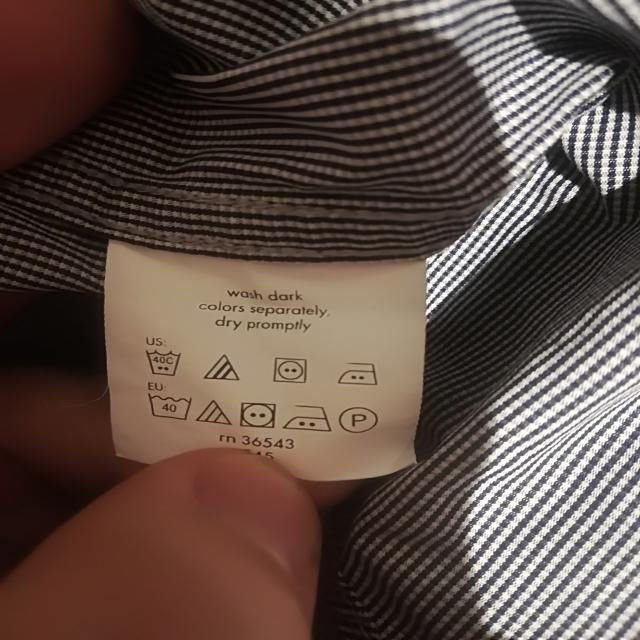40C: (143, 391, 199, 423), (146, 348, 188, 377)
dry_clean_any_solvent_except_trichloroethylene: (340, 404, 379, 435)
iron_medium: (286, 401, 334, 433), (335, 357, 381, 389)
non_chlorine_bleach: (204, 354, 244, 383), (195, 400, 233, 428)
tumble_dry_medium: (237, 399, 279, 431), (269, 356, 313, 385)
